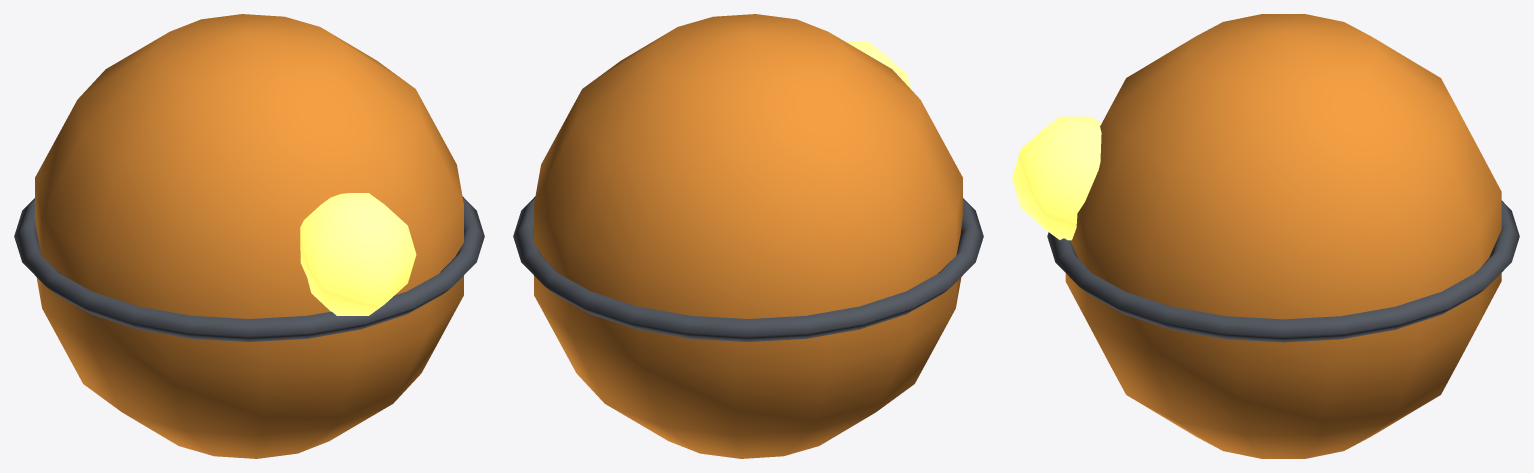
Rendered from minibot_ball.glb.
3 views of the same model, side by side, from view 1: azimuth 30°, elevation 25°; view 2: azimuth 150°, elevation 25°; view 3: azimuth 270°, elevation 25° (orthographic).
Parts seen in each view (by area): view 1: GD_minibot_ball__m0, GD_minibot_ball__m1, GD_minibot_ball__m2; view 2: GD_minibot_ball__m0, GD_minibot_ball__m1, GD_minibot_ball__m2; view 3: GD_minibot_ball__m0, GD_minibot_ball__m1, GD_minibot_ball__m2.
Part boxes in pixels (x1,y1,x2,y2): GD_minibot_ball__m0: [35, 14, 463, 458]; GD_minibot_ball__m1: [14, 196, 484, 341]; GD_minibot_ball__m2: [300, 193, 416, 315]; GD_minibot_ball__m0: [534, 14, 962, 458]; GD_minibot_ball__m1: [513, 196, 983, 341]; GD_minibot_ball__m2: [846, 41, 911, 89]; GD_minibot_ball__m0: [1065, 14, 1501, 458]; GD_minibot_ball__m1: [1047, 200, 1519, 342]; GD_minibot_ball__m2: [1012, 116, 1101, 240].
Bounding box in the file's own units: 0.148 × 0.14 × 0.159.
